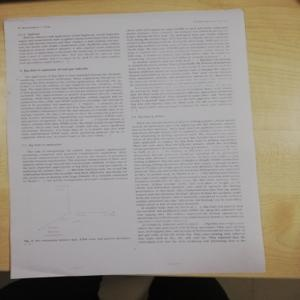text: (129, 25, 245, 246), (19, 65, 129, 180), (17, 32, 120, 64)
